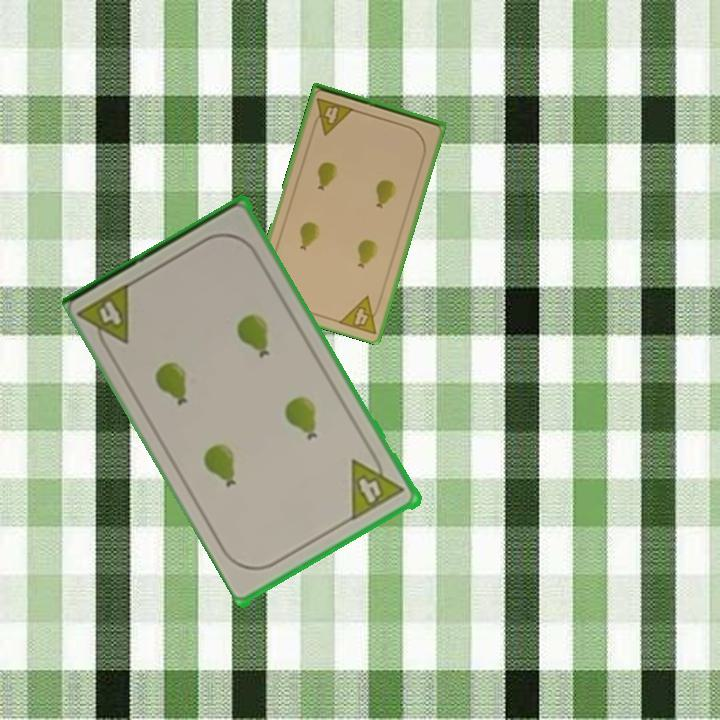4p: (76, 279, 136, 357), (347, 447, 408, 522), (335, 292, 385, 337), (309, 95, 357, 137)
